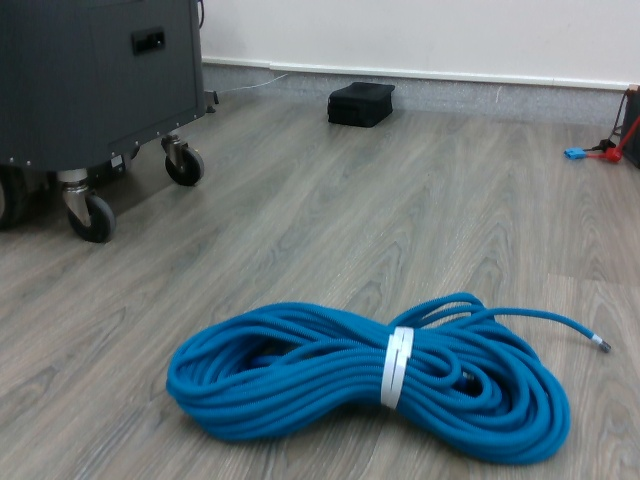rope: (160, 289, 619, 469)
